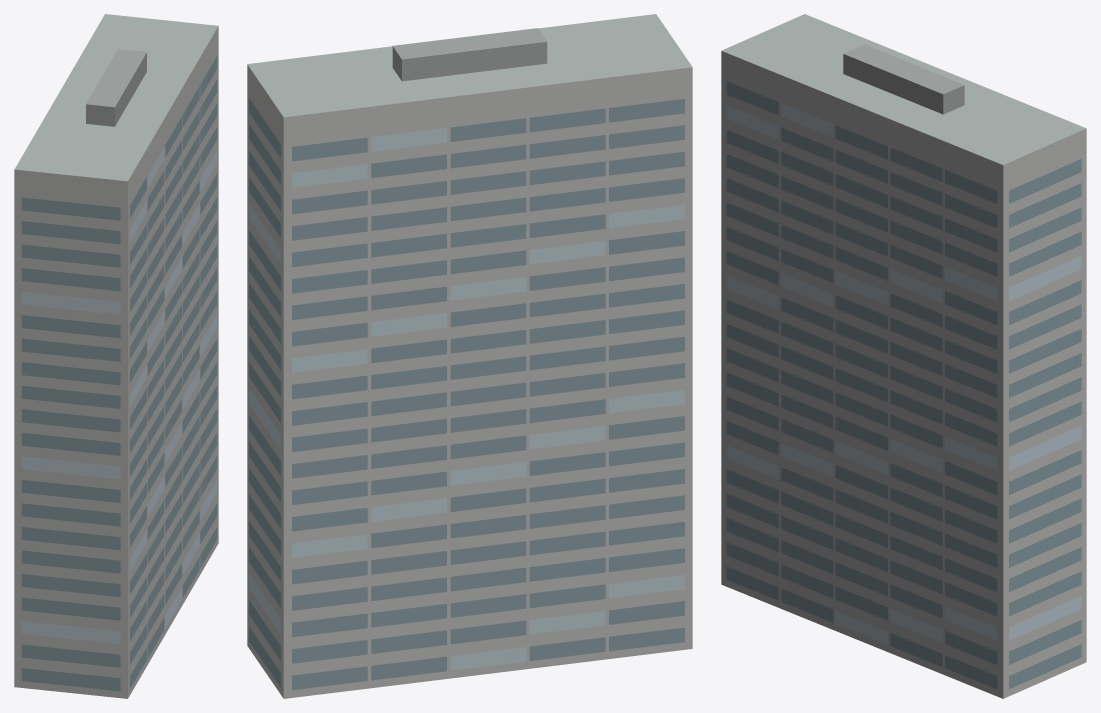
File: fallback-raemian-blesstige-202.glb
The picture shows the model from 3 angles, left to right: view 1: azimuth 30°, elevation 25°; view 2: azimuth 150°, elevation 25°; view 3: azimuth 270°, elevation 25°; orthographic projection. The views are drawn at different scales.
Visible parts, largest first — view 1: fallback-raemian-blesstige-202; view 2: fallback-raemian-blesstige-202; view 3: fallback-raemian-blesstige-202.
Part boxes in pixels (x1,y1,x2,y2): fallback-raemian-blesstige-202: (14, 14, 218, 698); fallback-raemian-blesstige-202: (247, 14, 692, 698); fallback-raemian-blesstige-202: (721, 14, 1086, 698).
Bounding box in the file's own units: 38.62 × 66 × 39.46.
